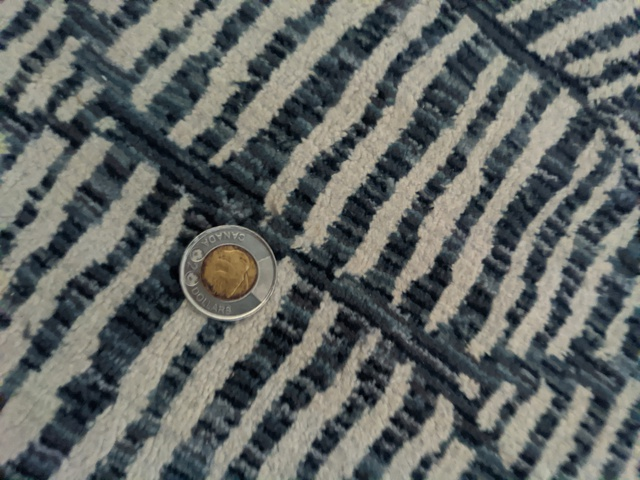twonie: (172, 224, 291, 319)
